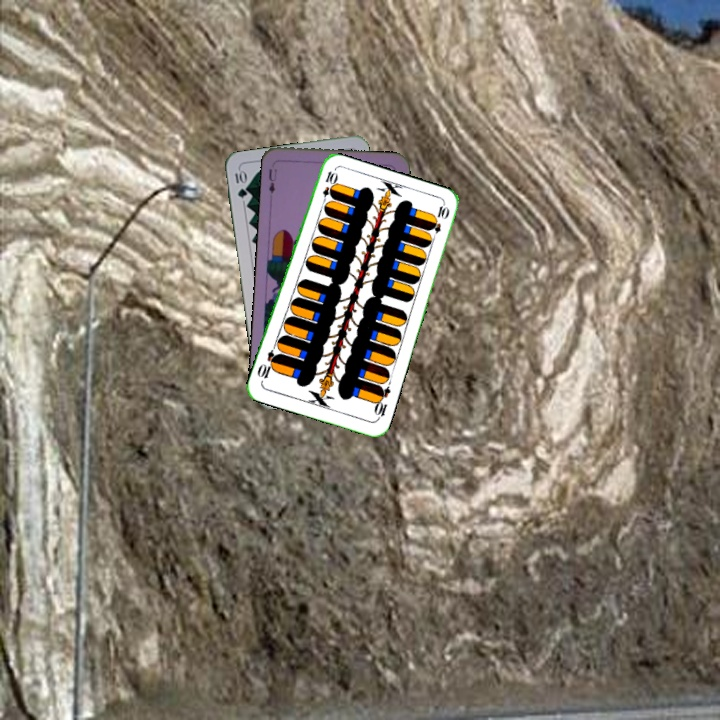E10: (370, 382, 393, 422), (318, 167, 338, 207)
EU: (265, 165, 280, 196)
G10: (231, 166, 249, 200)
